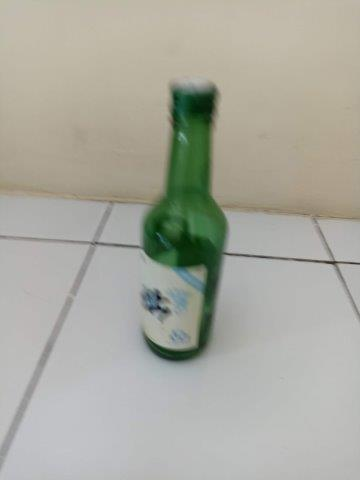botolkaca: (140, 81, 228, 361)
